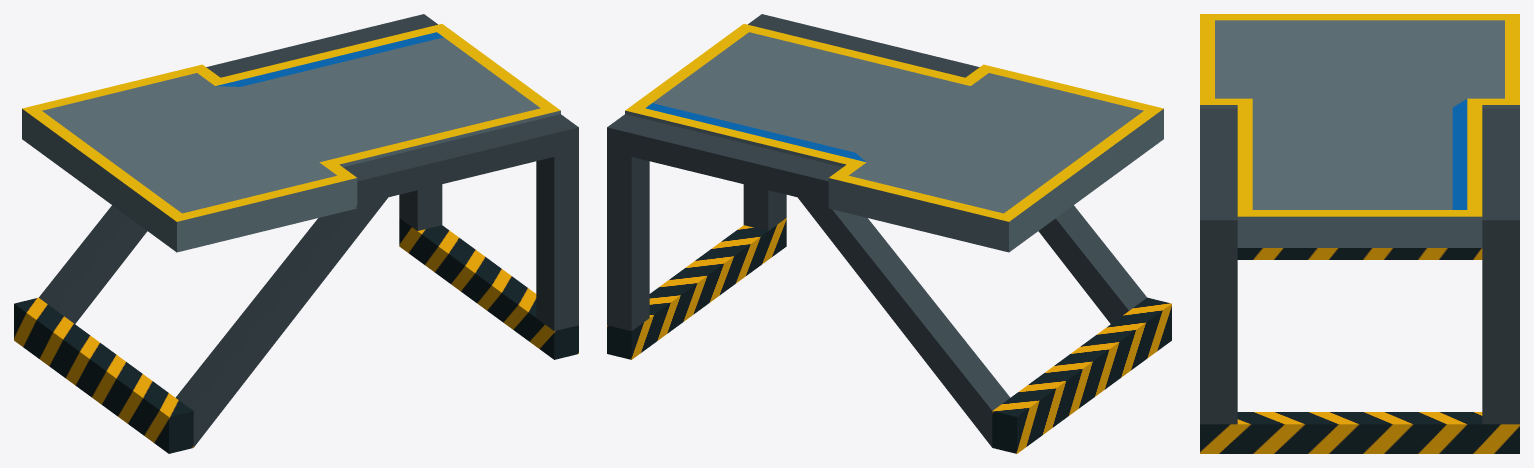
Rendered from Desk_003.fbx.
3 views of the same model, side by side, from view 1: azimuth 30°, elevation 25°; view 2: azimuth 150°, elevation 25°; view 3: azimuth 270°, elevation 25° (orthographic). The views are drawn at different scales.
Visible parts, largest first — view 1: Desk_003; view 2: Desk_003; view 3: Desk_003.
Boxes of the visible parts, <box> form: Desk_003: <box>14,14,578,453</box>; Desk_003: <box>607,14,1171,453</box>; Desk_003: <box>1200,14,1519,453</box>.
Bounding box in the file's own units: 161 × 105 × 86.17.
